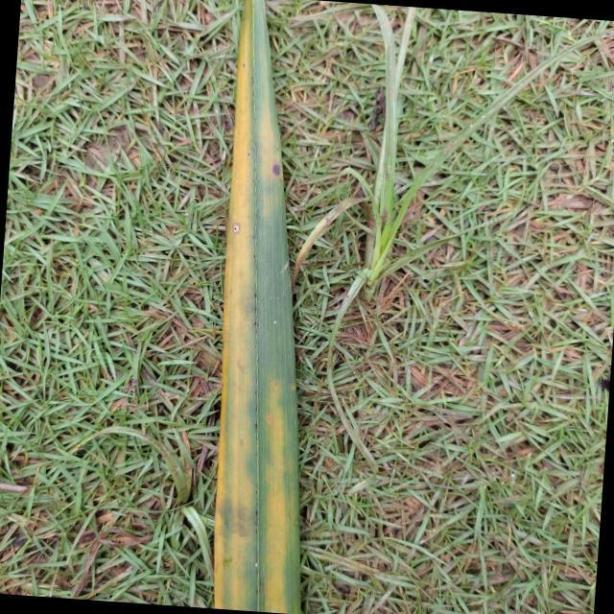Megnesium: (211, 0, 304, 614)
